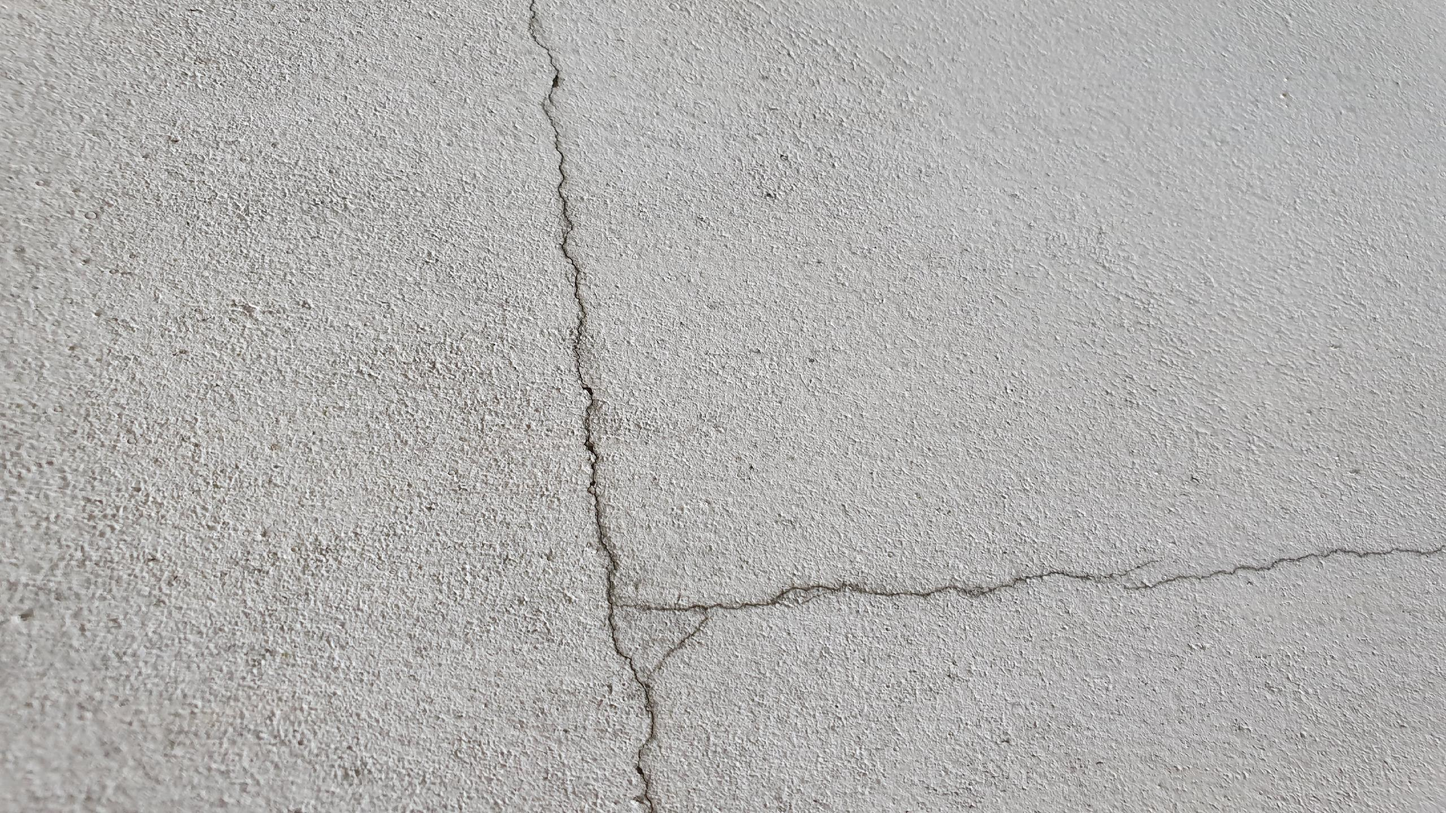crack: (615, 545, 1443, 611), (584, 411, 654, 812)
